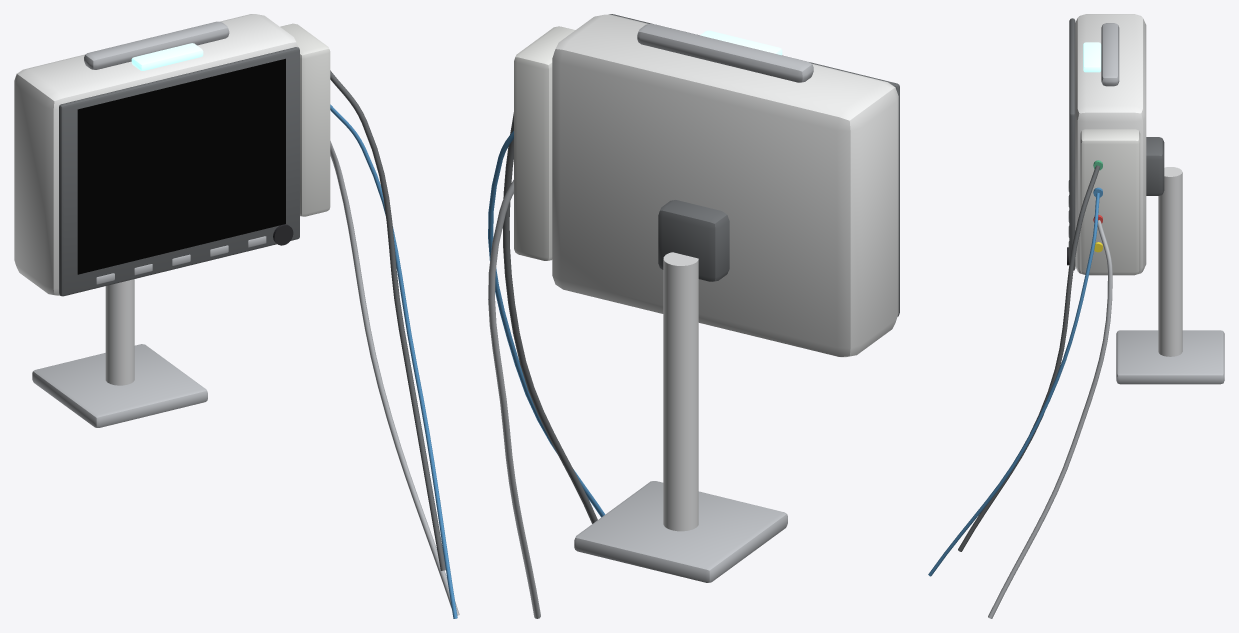
Rendered from PatientMonitor.fbx.
3 renders of one model, left to right at view 1: azimuth 30°, elevation 25°; view 2: azimuth 150°, elevation 25°; view 3: azimuth 270°, elevation 25°, orthographic. The views are drawn at different scales.
Visible parts, largest first — view 1: PatientMonitor_Mesh, PatientMonitor_Screen_vitals; view 2: PatientMonitor_Mesh; view 3: PatientMonitor_Mesh.
Part boxes in pixels (x1,y1,x2,y2): PatientMonitor_Mesh: [14, 14, 459, 618]; PatientMonitor_Screen_vitals: [77, 58, 285, 274]; PatientMonitor_Mesh: [488, 14, 899, 618]; PatientMonitor_Mesh: [928, 14, 1224, 618].
Size of the model in its own units: 0.5639 by 0.8767 by 0.4925.
